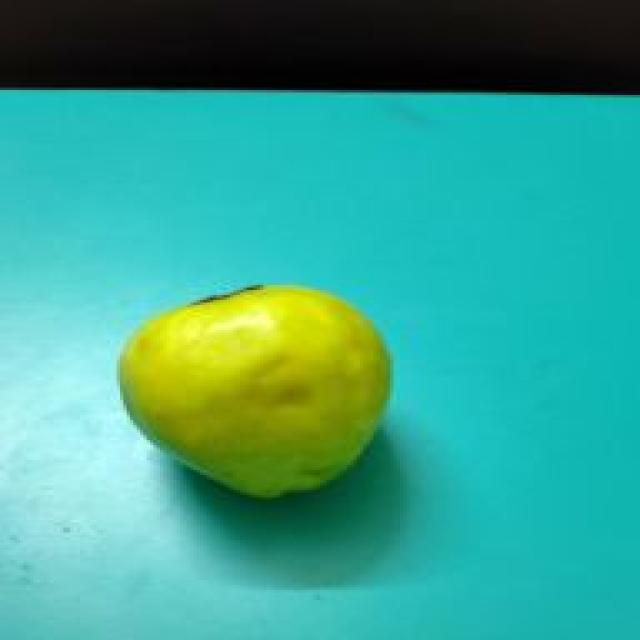Good_Guava: (117, 285, 393, 505)
